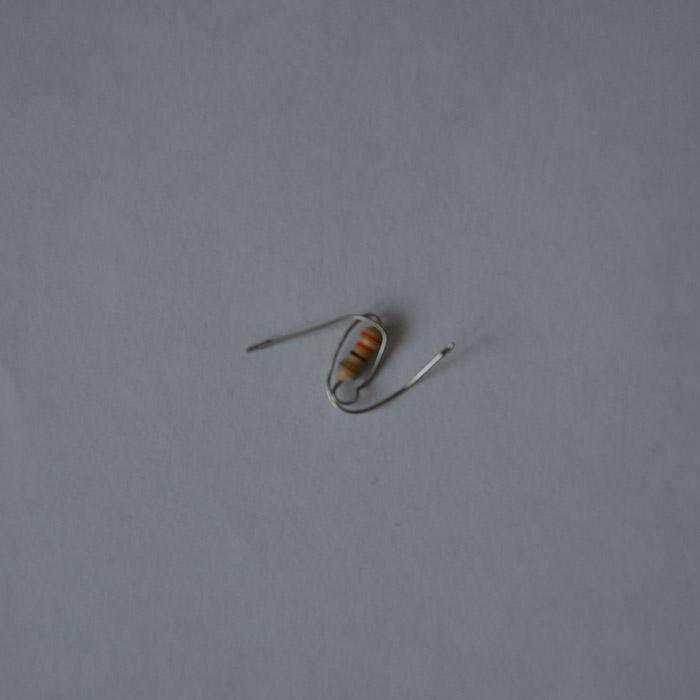resistor: (338, 325, 382, 381)
